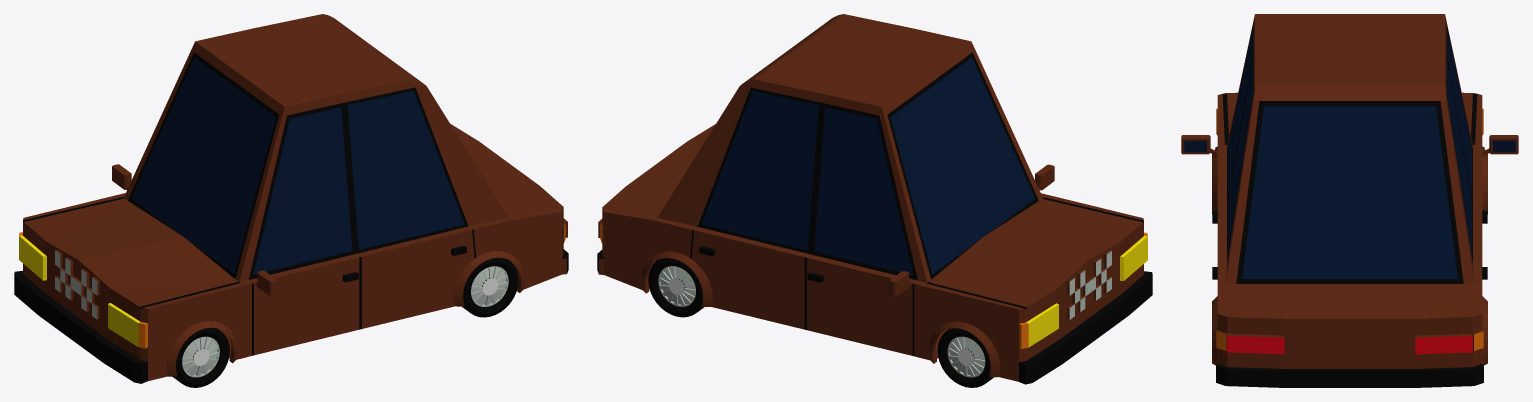
The model's file is lowpolycar.glb.
3 renders of one model, left to right at view 1: azimuth 30°, elevation 25°; view 2: azimuth 150°, elevation 25°; view 3: azimuth 270°, elevation 25°, orthographic. The views are drawn at different scales.
Parts seen in each view (by area): view 1: Body, Glass, Bumper.001, Wheel.001, Wheel, FrontLight, Radiator; view 2: Body, Glass, Bumper.001, Wheel.003, Wheel.002, FrontLight, Radiator; view 3: Body, Glass, Bumper, RareLight, TurnLightBack.
Part boxes in pixels (x1,y1,x2,y2): Body: (23,14,567,380); Glass: (131,57,464,274); Bumper.001: (14,270,147,383); Wheel.001: (462,257,518,317); Wheel: (172,327,229,387); FrontLight: (19,235,140,346); Radiator: (55,250,97,319); Body: (598,14,1143,381); Glass: (701,57,1034,275); Bumper.001: (1019,271,1152,384); Wheel.003: (648,258,703,317); Wheel.002: (937,328,993,387); FrontLight: (1026,236,1147,347); Radiator: (1069,251,1111,319); Body: (1181,14,1518,368); Glass: (1227,30,1472,278); Bumper: (1216,364,1483,387); RareLight: (1227,335,1472,354); TurnLightBack: (1216,331,1483,350).
Size of the model in its own units: 6.41 by 3.37 by 3.98.
